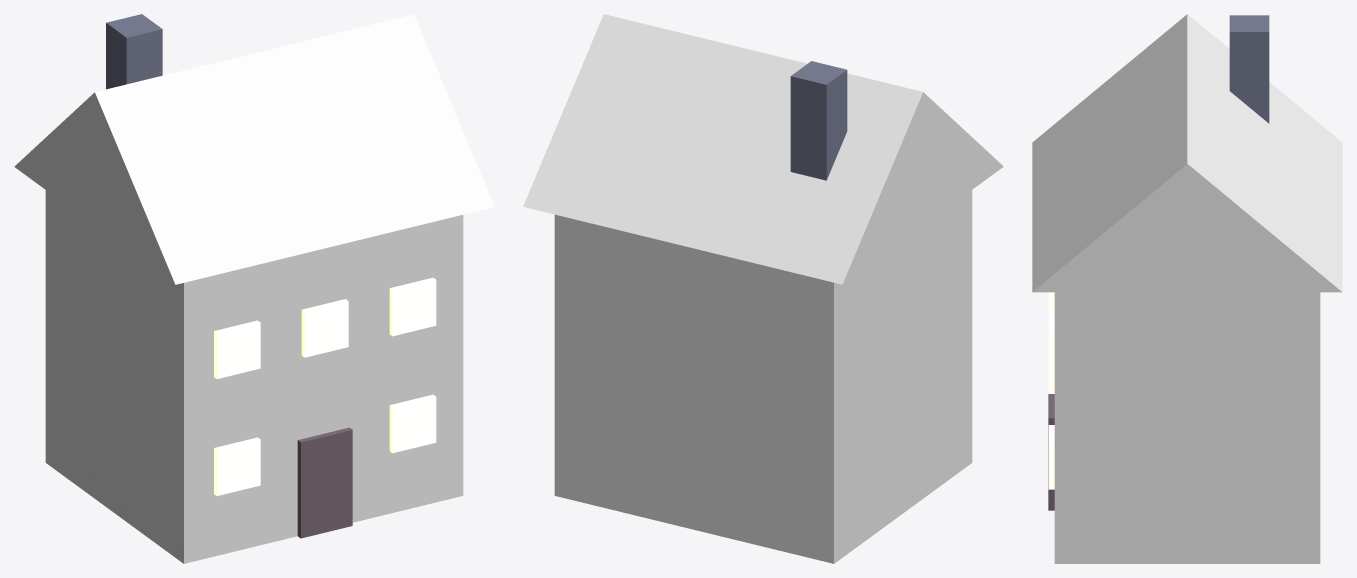
Rendered from tier_3_uncommon.glb.
3 renders of one model, left to right at view 1: azimuth 30°, elevation 25°; view 2: azimuth 150°, elevation 25°; view 3: azimuth 270°, elevation 25°, orthographic. The views are drawn at different scales.
Visible parts, largest first — view 1: Body, Roof, Door, Chimney, WindowHigh1, WindowHigh2, WindowLow1, WindowHigh0, WindowLow0; view 2: Body, Roof, Chimney; view 3: Body, Roof, Chimney, WindowHigh2, WindowLow1, Door.
Boxes of the visible parts, x1,y1,x2,y2 form: Body: [45, 190, 463, 563]; Roof: [14, 14, 494, 284]; Door: [297, 427, 352, 538]; Chimney: [106, 14, 162, 89]; WindowHigh1: [301, 299, 348, 357]; WindowHigh2: [389, 277, 436, 336]; WindowLow1: [389, 394, 436, 453]; WindowHigh0: [214, 320, 260, 378]; WindowLow0: [214, 437, 260, 495]; Body: [554, 190, 972, 563]; Roof: [523, 14, 1003, 284]; Chimney: [790, 61, 847, 180]; Body: [1054, 292, 1320, 563]; Roof: [1032, 14, 1342, 292]; Chimney: [1229, 15, 1269, 123]; WindowHigh2: [1048, 312, 1054, 377]; WindowLow1: [1048, 425, 1054, 489]; Door: [1048, 394, 1054, 510].
Size of the model in its own units: 8 by 10.8 by 7.
